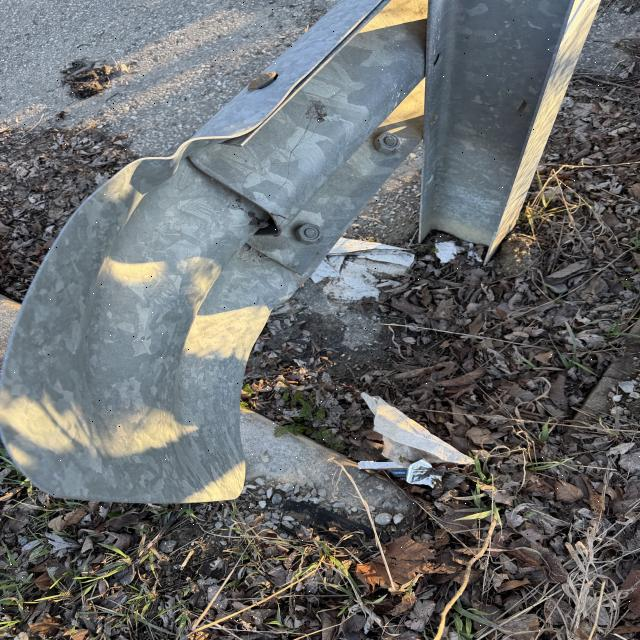Guard rail: (12, 14, 603, 340)
